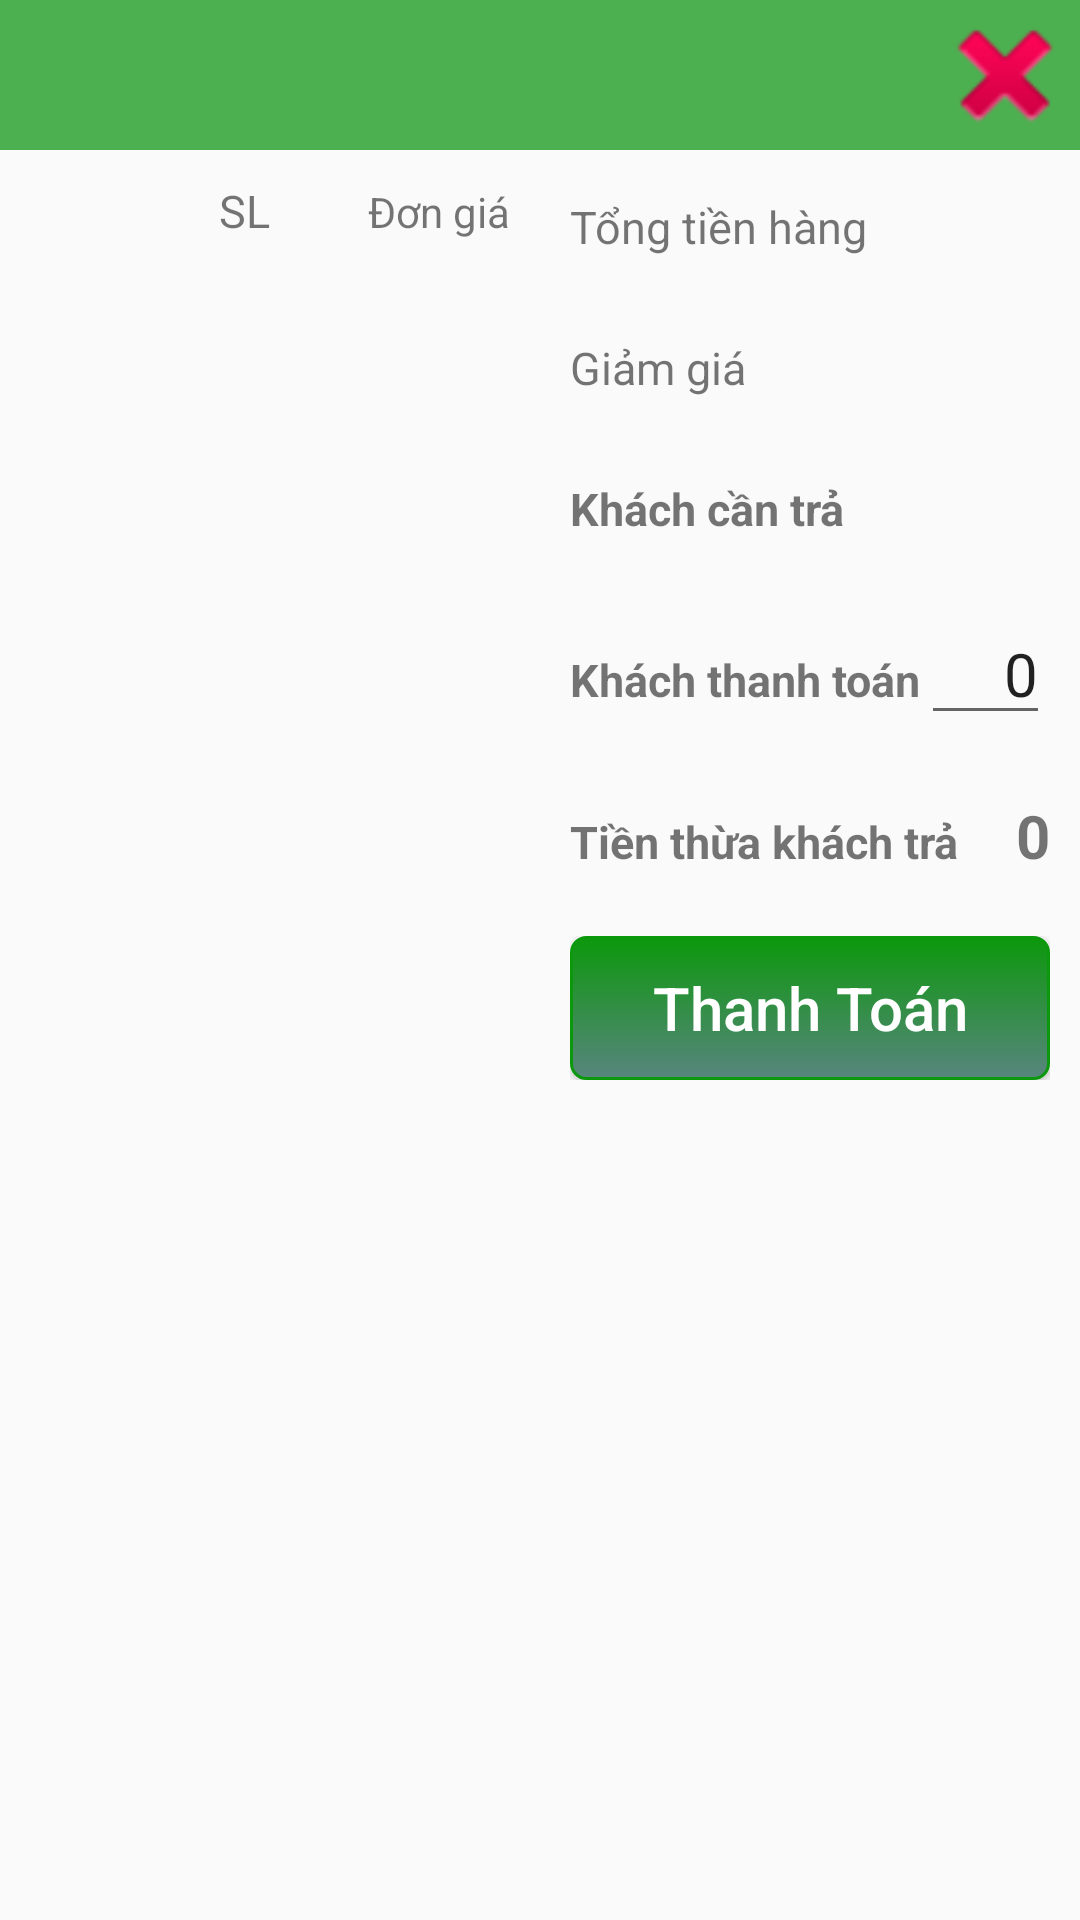

Icons on this 1080 × 1920 Android screen, each with the point to tap as [x,y]:
delete: [1005,76]
